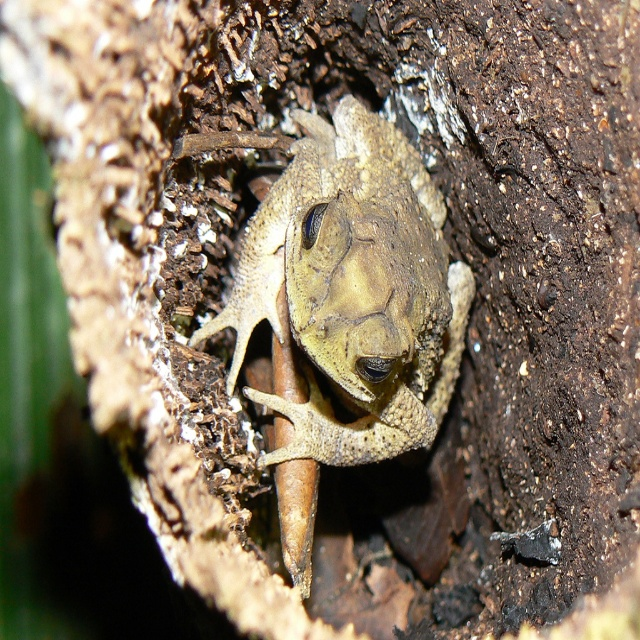Frog: (187, 93, 478, 469)
